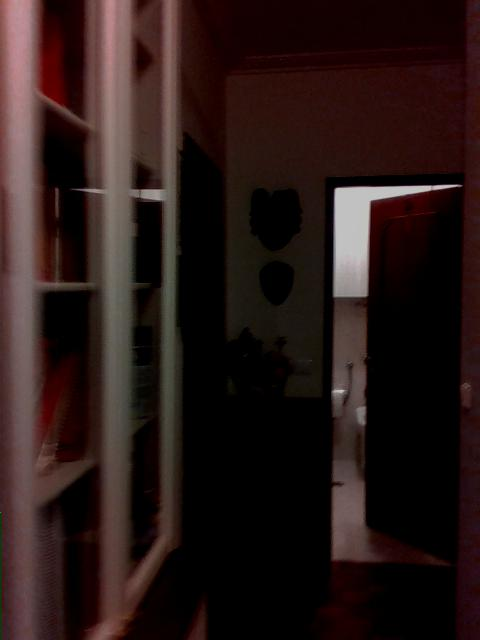semi_door: (321, 172, 464, 573)
